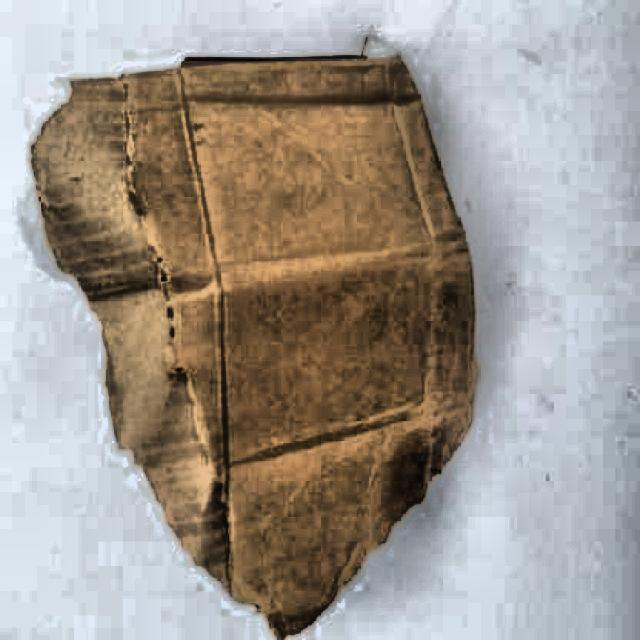Cardbox: (25, 57, 502, 636)
